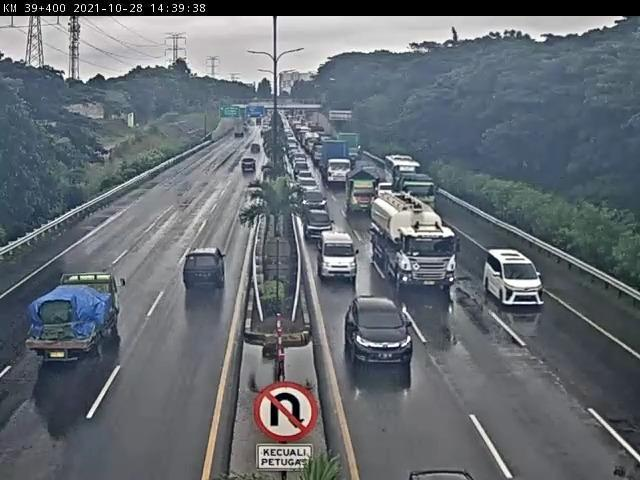car: (373, 409, 481, 480), (351, 293, 413, 365), (169, 248, 238, 299), (492, 252, 544, 308), (319, 224, 353, 266), (305, 206, 331, 233), (302, 186, 326, 204), (236, 165, 255, 187), (246, 144, 266, 164)
truck: (6, 254, 121, 389), (362, 187, 445, 273), (344, 169, 372, 206)
